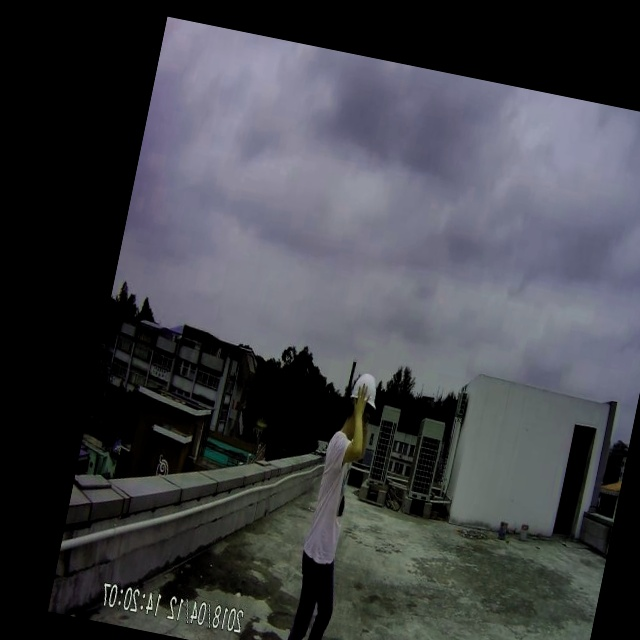Con_Casco: (342, 371, 382, 435)
